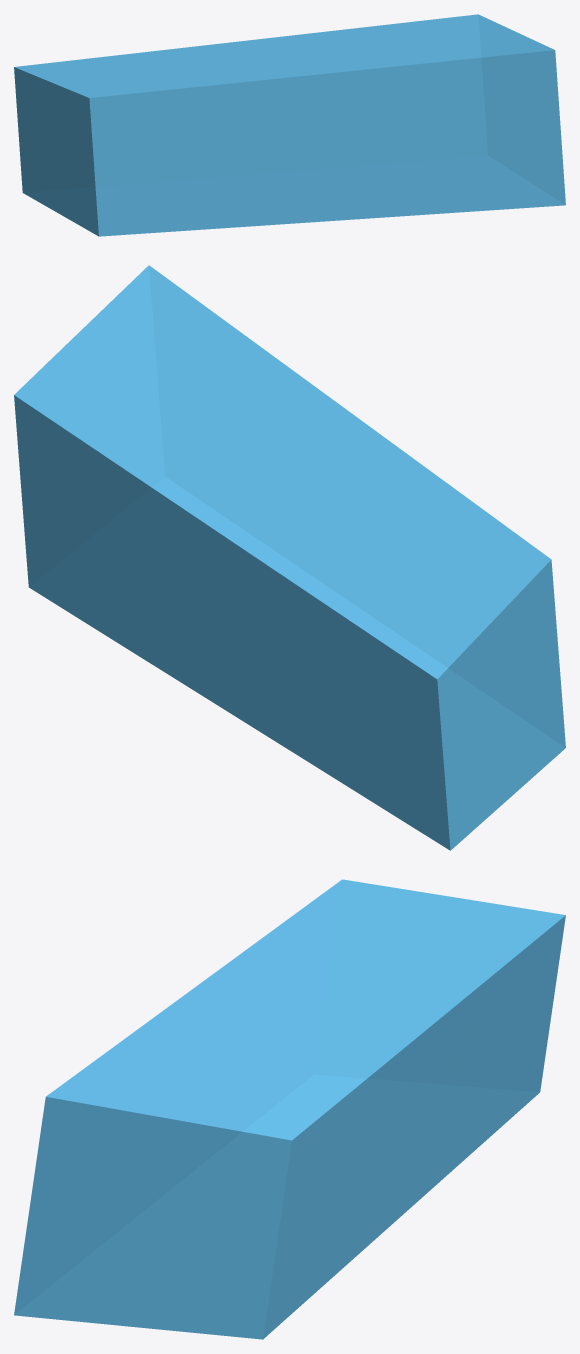
Rendered from Event_421278790_HErechit_8.fbx.
3 renders of one model, top to bottom at view 1: azimuth 30°, elevation 25°; view 2: azimuth 150°, elevation 25°; view 3: azimuth 270°, elevation 25°, orthographic. The views are drawn at different scales.
Visible parts, largest first — view 1: Model; view 2: Model; view 3: Model.
Part boxes in pixels (box(x1,y1,x2,y2)): Model: box(14, 14, 565, 236); Model: box(14, 265, 565, 850); Model: box(14, 879, 565, 1339).
Size of the model in its own units: 1.22 by 0.5524 by 1.06.
